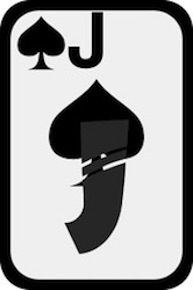JackOfSpades: (1, 1, 193, 289)
